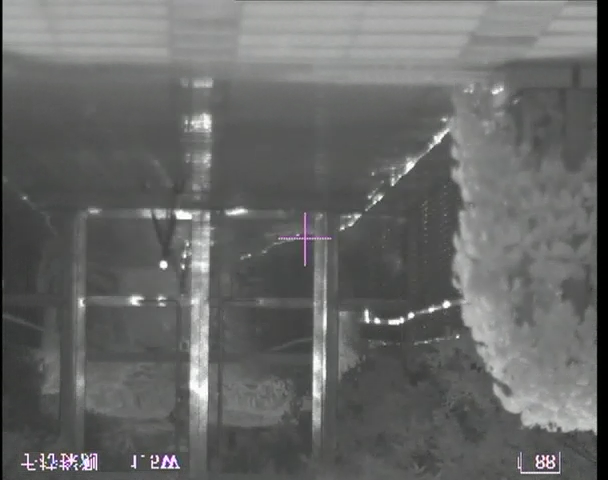my: (157, 260, 169, 271)
